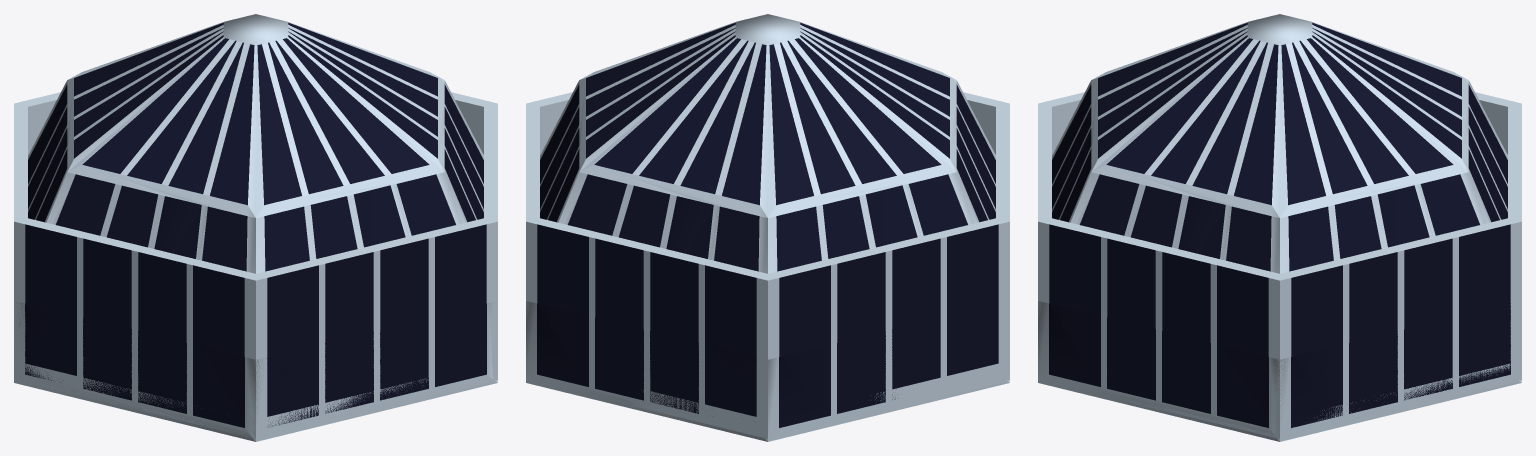
Rendered from hexagonScysc.fbx.
3 views of the same model, side by side, from view 1: azimuth 30°, elevation 25°; view 2: azimuth 150°, elevation 25°; view 3: azimuth 270°, elevation 25° (orthographic).
Parts seen in each view (by area): view 1: walls, walls.005, top.005, top.002, top.001, top.004, top.006, top.003, top.008, top.017, top.009, top.018 (+5 smaller); view 2: walls.004, walls.003, top.017, top.014, top.013, top.018, top.015, top.016, top.002, top.011, top.003, top.012 (+5 smaller); view 3: walls.002, walls.001, top.007, top.011, top.008, top.010, top.012, top.009, top.005, top.014, top.006, top.015 (+5 smaller).
Part boxes in pixels (x1=…): walls: x1=256, y1=218, x2=497, y2=438; walls.005: x1=14, y1=218, x2=255, y2=438; top.005: x1=256, y1=37, x2=444, y2=217; top.002: x1=67, y1=37, x2=255, y2=217; top.001: x1=14, y1=302, x2=255, y2=441; top.004: x1=256, y1=302, x2=497, y2=441; top.006: x1=256, y1=172, x2=465, y2=273; top.003: x1=46, y1=172, x2=255, y2=273; top.008: x1=288, y1=22, x2=444, y2=171; top.017: x1=67, y1=22, x2=223, y2=171; top.009: x1=444, y1=80, x2=483, y2=222; top.018: x1=28, y1=80, x2=67, y2=222; walls.004: x1=768, y1=218, x2=1009, y2=413; walls.003: x1=526, y1=218, x2=767, y2=438; top.017: x1=768, y1=37, x2=956, y2=217; top.014: x1=579, y1=37, x2=767, y2=217; top.013: x1=526, y1=301, x2=767, y2=441; top.018: x1=768, y1=172, x2=977, y2=273; top.015: x1=558, y1=172, x2=767, y2=273; top.016: x1=768, y1=322, x2=1009, y2=441; top.002: x1=800, y1=22, x2=956, y2=171; top.011: x1=579, y1=22, x2=735, y2=171; top.003: x1=956, y1=80, x2=995, y2=222; top.012: x1=540, y1=80, x2=579, y2=222; walls.002: x1=1280, y1=218, x2=1521, y2=438; walls.001: x1=1038, y1=218, x2=1279, y2=438; top.007: x1=1038, y1=301, x2=1279, y2=441; top.011: x1=1280, y1=37, x2=1468, y2=217; top.008: x1=1091, y1=37, x2=1279, y2=217; top.010: x1=1280, y1=303, x2=1521, y2=441; top.012: x1=1280, y1=172, x2=1489, y2=273; top.009: x1=1070, y1=172, x2=1279, y2=273; top.005: x1=1091, y1=22, x2=1247, y2=171; top.014: x1=1312, y1=22, x2=1468, y2=171; top.006: x1=1052, y1=80, x2=1091, y2=222; top.015: x1=1468, y1=80, x2=1507, y2=222.
Bounding box in the file's own units: 1600 × 929 × 1386.
